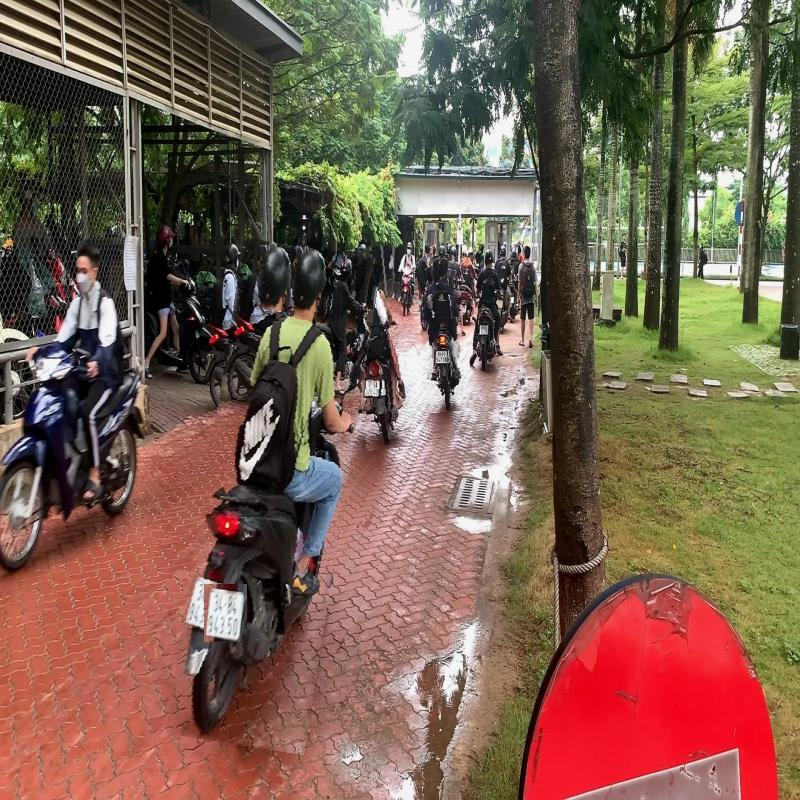helmet: (256, 246, 294, 312)
licenseplate: (204, 584, 247, 642), (364, 378, 382, 400), (434, 350, 449, 366)
motorcyclist: (185, 242, 363, 751), (348, 246, 409, 450), (419, 255, 464, 412)
nohelmet: (360, 253, 378, 282), (438, 258, 448, 278)
